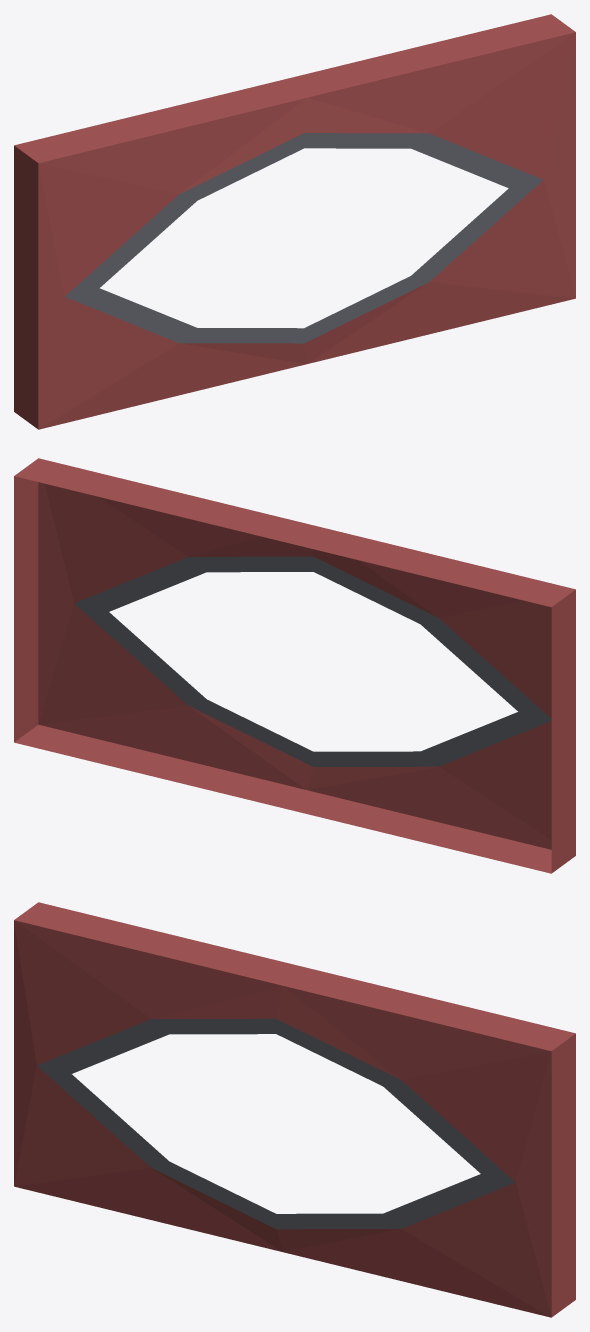
File: Char_HAL_Face.FBX
3 views of the same model, one above another, from view 1: azimuth 30°, elevation 25°; view 2: azimuth 150°, elevation 25°; view 3: azimuth 330°, elevation 25° (orthographic).
Visible parts, largest first — view 1: Tube001; view 2: Tube001; view 3: Tube001.
Boxes of the visible parts, x1,y1,x2,y2 form: Tube001: (14, 14, 575, 429); Tube001: (14, 458, 575, 873); Tube001: (14, 902, 575, 1317).
Size of the model in its own units: 13.54 by 6.41 by 1.14.
